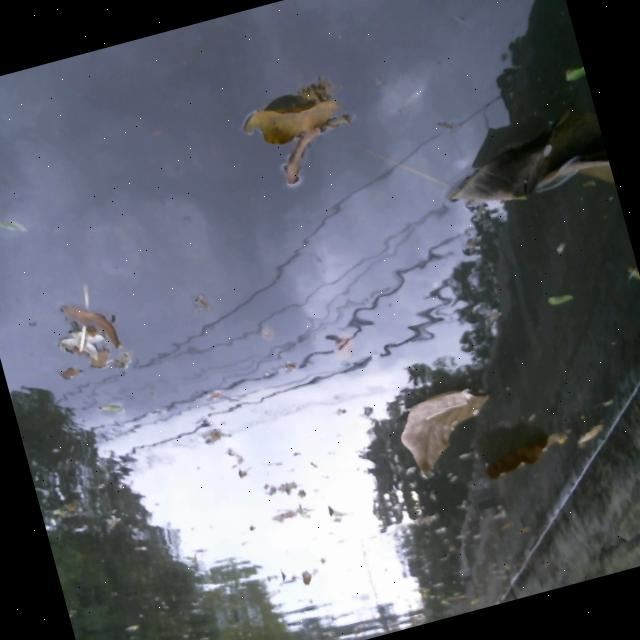Big-leaf: (428, 106, 620, 249), (223, 53, 367, 208), (380, 370, 498, 477), (479, 426, 575, 484)
Small-leaf: (51, 282, 131, 372), (532, 274, 592, 325), (568, 414, 628, 461), (560, 58, 590, 97), (619, 249, 640, 287)
